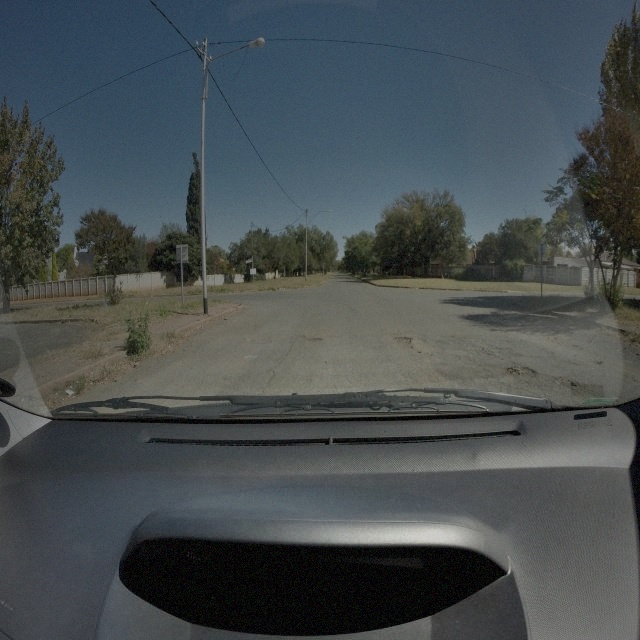pothole: (506, 359, 537, 376), (558, 378, 578, 391), (393, 333, 414, 345), (308, 336, 324, 342)
